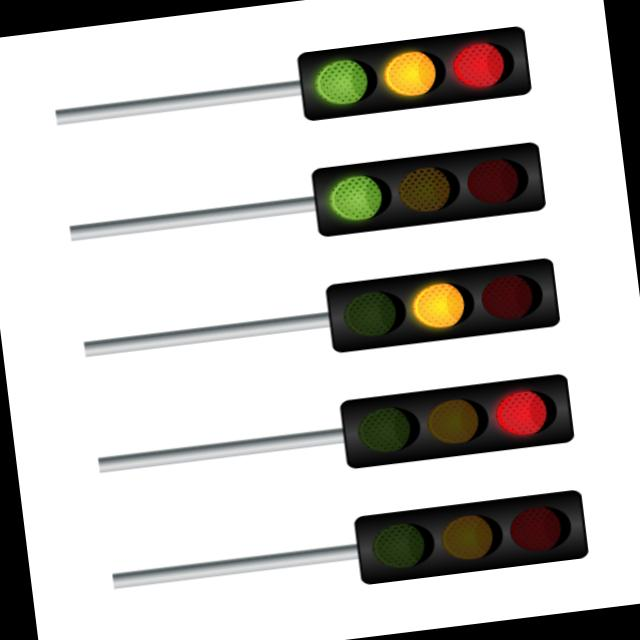green-lights: (326, 170, 388, 226), (312, 59, 372, 109)
red-lights: (452, 41, 509, 92), (496, 388, 549, 440)
yellow-lights: (408, 276, 471, 334), (382, 50, 442, 104)
